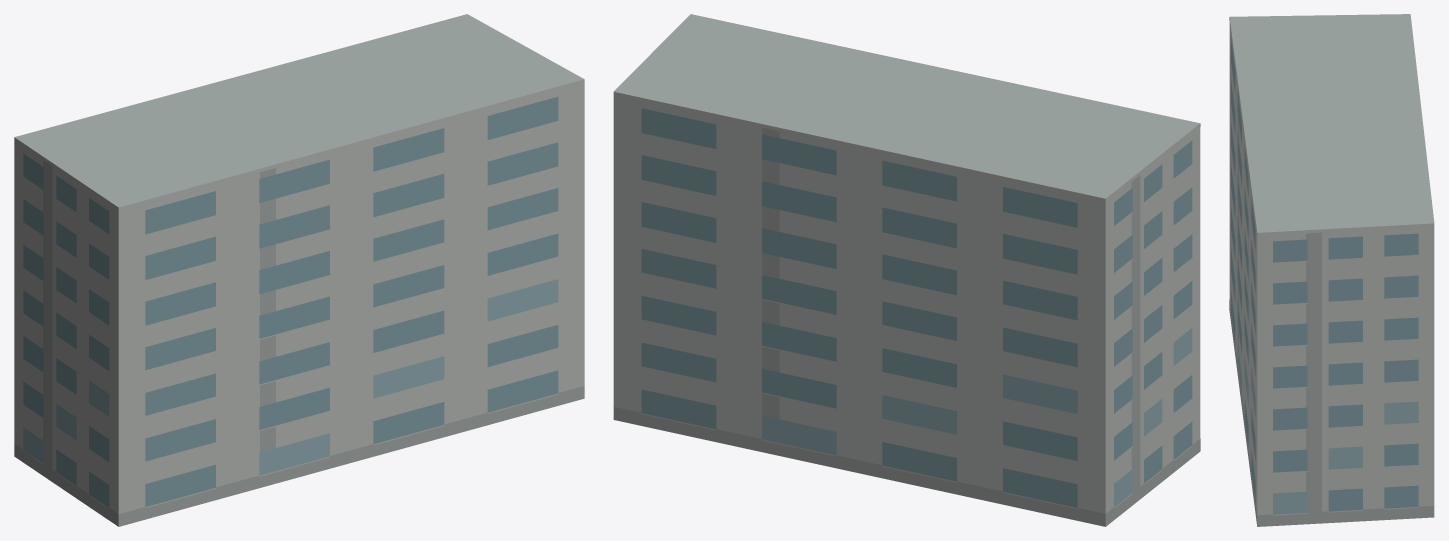
Rendered from residential-80df4d14-8b5d-4bc3-ab59-343cfccd7383.glb.
3 views of the same model, side by side, from view 1: azimuth 30°, elevation 25°; view 2: azimuth 150°, elevation 25°; view 3: azimuth 270°, elevation 25° (orthographic). The views are drawn at different scales.
Visible parts, largest first — view 1: residential-80df4d14-8b5d-4bc3-ab59-343cfccd7383.tmp; view 2: residential-80df4d14-8b5d-4bc3-ab59-343cfccd7383.tmp; view 3: residential-80df4d14-8b5d-4bc3-ab59-343cfccd7383.tmp.
Boxes of the visible parts, x1=… form: residential-80df4d14-8b5d-4bc3-ab59-343cfccd7383.tmp: x1=14, y1=14, x2=584, y2=526; residential-80df4d14-8b5d-4bc3-ab59-343cfccd7383.tmp: x1=613, y1=14, x2=1200, y2=526; residential-80df4d14-8b5d-4bc3-ab59-343cfccd7383.tmp: x1=1229, y1=14, x2=1434, y2=526.
Size of the model in its own units: 35.13 by 22 by 13.9.
